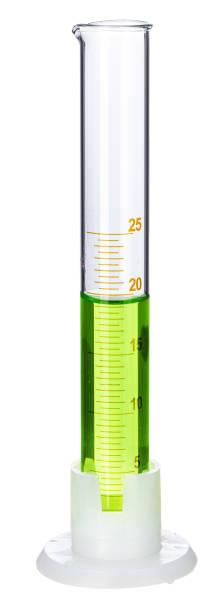Test tube: (55, 21, 209, 595)
